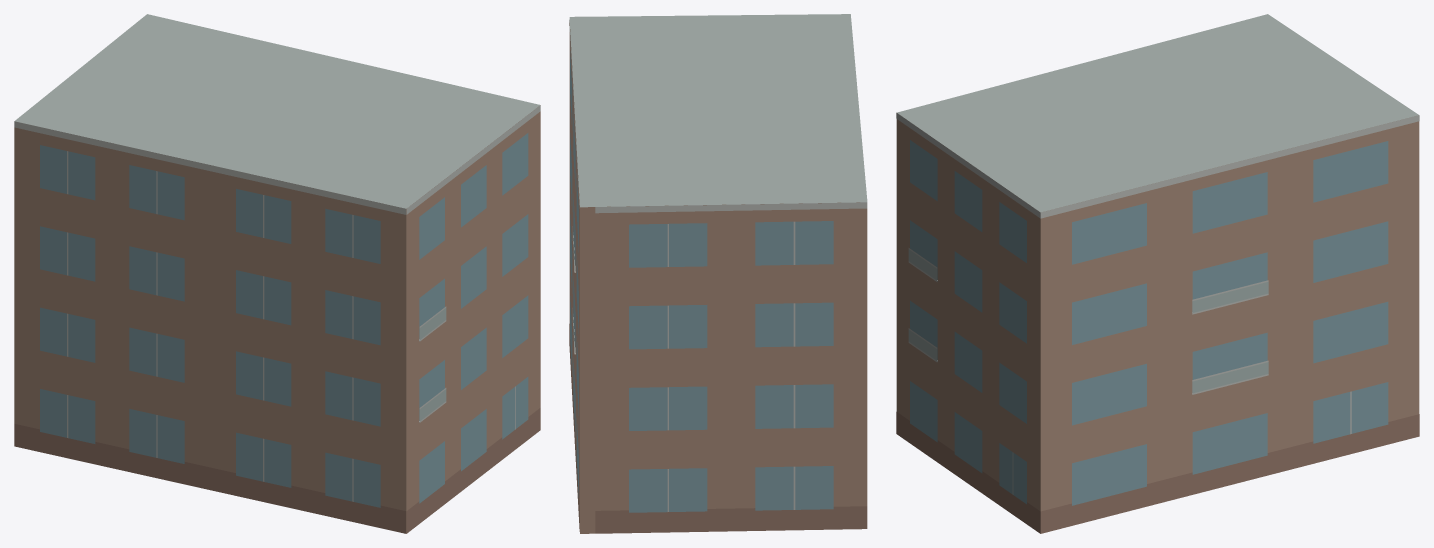
The model's file is survey-upis-32724258.glb.
The picture shows the model from 3 angles, left to right: view 1: azimuth 30°, elevation 25°; view 2: azimuth 150°, elevation 25°; view 3: azimuth 270°, elevation 25°; orthographic projection.
Visible parts, largest first — view 1: survey-upis-32724258.tmp; view 2: survey-upis-32724258.tmp; view 3: survey-upis-32724258.tmp.
Boxes of the visible parts, <box> form: survey-upis-32724258.tmp: <box>14,14,540,533</box>; survey-upis-32724258.tmp: <box>569,14,867,533</box>; survey-upis-32724258.tmp: <box>896,14,1419,533</box>.
Size of the model in its own units: 16.96 by 12.8 by 18.88.
